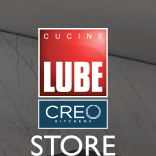lube: (34, 26, 109, 98), (36, 98, 111, 130)
